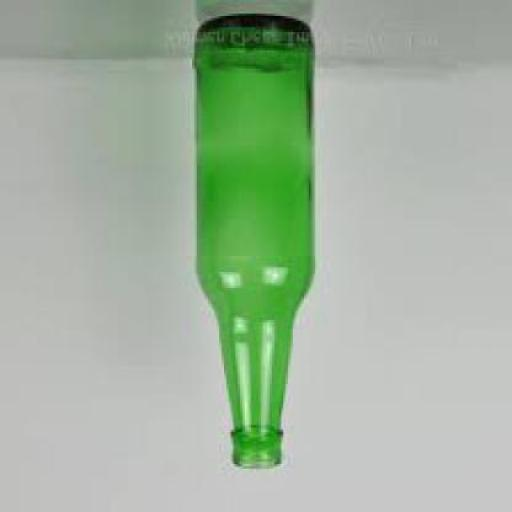glass: (192, 18, 310, 471)
